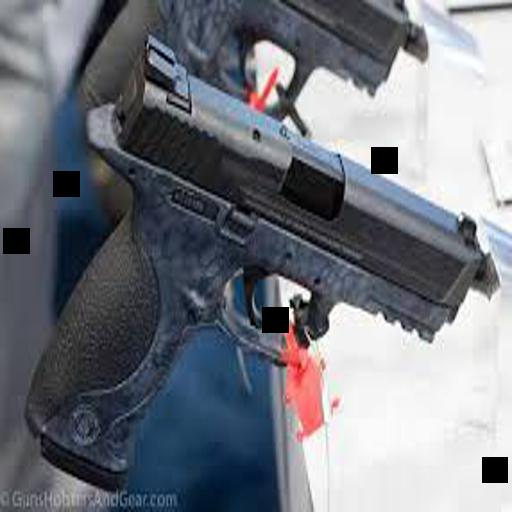Handgun: (16, 31, 500, 467)
